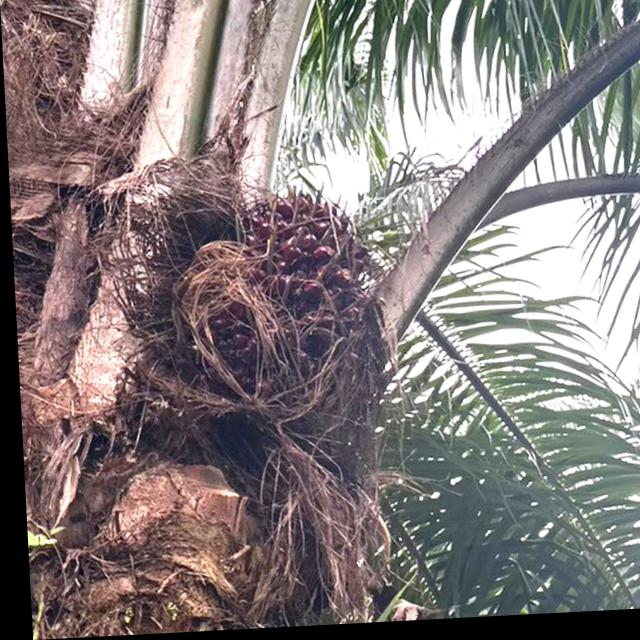ripe: (175, 191, 371, 395)
